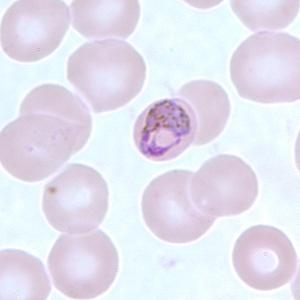Infected: (133, 98, 197, 162)
Uninfected: (0, 112, 86, 183), (140, 169, 217, 244), (67, 41, 147, 112), (228, 31, 300, 103), (21, 84, 92, 157), (46, 228, 118, 299), (42, 162, 108, 235), (0, 0, 71, 64), (232, 224, 298, 290), (192, 153, 259, 217), (174, 78, 231, 142), (68, 0, 142, 43), (0, 248, 50, 300)
